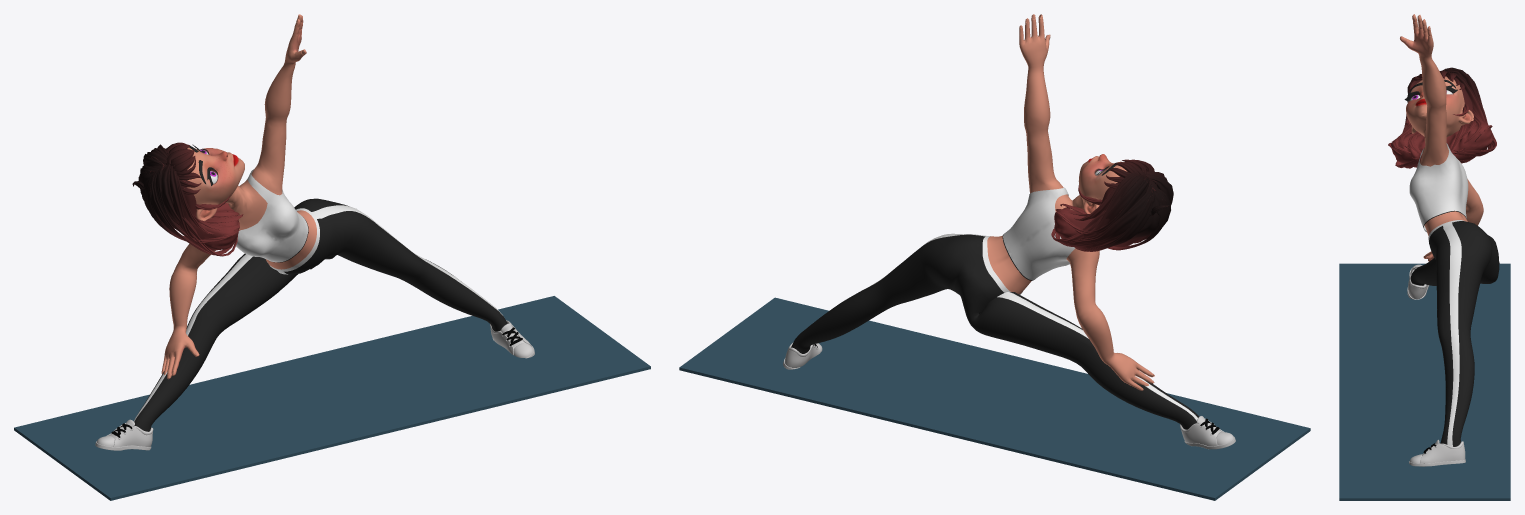
File: trikonasana.glb
The picture shows the model from 3 angles, left to right: view 1: azimuth 30°, elevation 25°; view 2: azimuth 150°, elevation 25°; view 3: azimuth 270°, elevation 25°; orthographic projection. The views are drawn at different scales.
Visible parts, largest first — view 1: Cube, BOT, base, hair, TOP, shoes; view 2: Cube, BOT, base, hair, TOP, shoes; view 3: Cube, BOT, base, hair, TOP, shoes.
Part boxes in pixels (box(x1,y1,x2,y2)): Cube: box(14, 296, 650, 500); BOT: box(133, 198, 507, 431); base: box(161, 14, 316, 379); hair: box(132, 142, 243, 256); TOP: box(234, 169, 308, 262); shoes: box(95, 320, 534, 450); Cube: box(679, 297, 1310, 500); BOT: box(791, 233, 1199, 429); base: box(987, 14, 1154, 390); hair: box(1051, 159, 1173, 251); TOP: box(1002, 187, 1075, 280); shoes: box(783, 342, 1235, 449); Cube: box(1339, 263, 1510, 500); BOT: box(1410, 220, 1499, 446); base: box(1400, 14, 1483, 261); hair: box(1388, 67, 1496, 168); TOP: box(1409, 143, 1468, 231); shoes: box(1407, 264, 1465, 466).
Size of the model in its own units: 15.97 by 11.25 by 4.93.
Materials: 11 (2 with a texture image).
